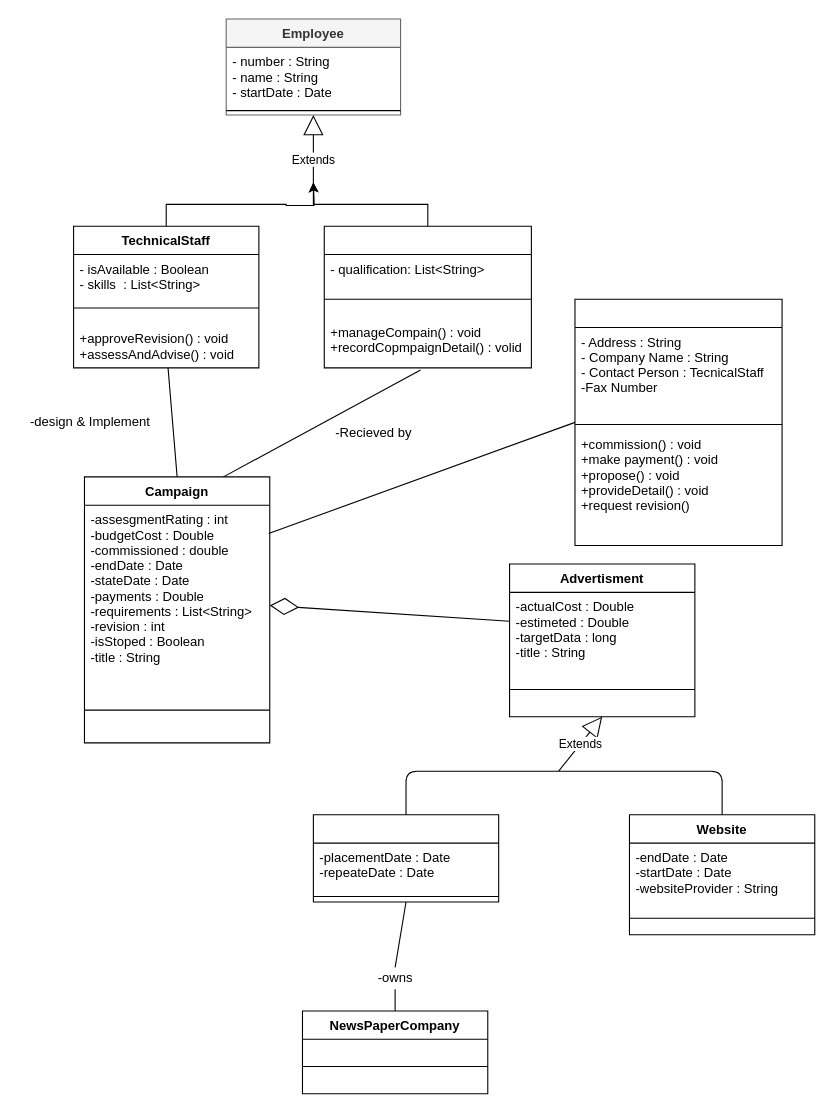
This 834x1113 diagram has some shape labels left out. The box of each missing label's shape, as (x1, y1, x2, y2) in pixels:
AdministrationStaff: (323, 225, 531, 368)
Customer: (574, 298, 782, 546)
NewsPaper: (312, 814, 499, 902)
